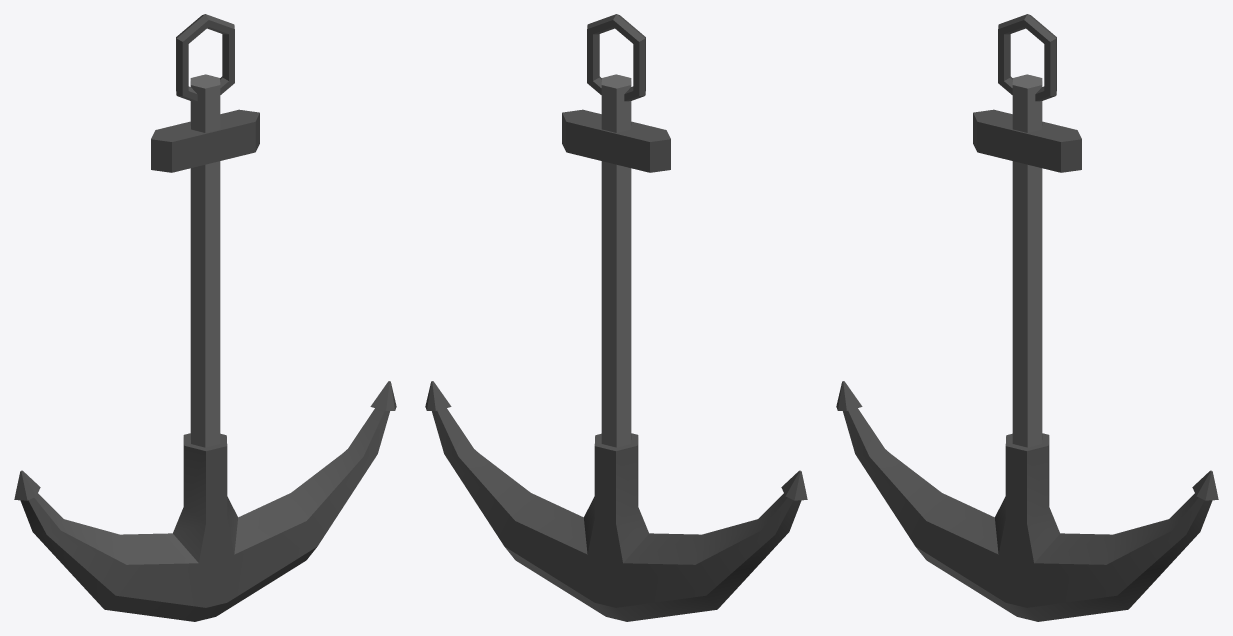
File: Anchor.fbx
The picture shows the model from 3 angles, left to right: view 1: azimuth 30°, elevation 25°; view 2: azimuth 150°, elevation 25°; view 3: azimuth 330°, elevation 25°; orthographic projection.
Parts seen in each view (by area): view 1: Anchor_LOD0; view 2: Anchor_LOD0; view 3: Anchor_LOD0.
Boxes of the visible parts, bbox=[...] form: Anchor_LOD0: bbox=[14, 14, 396, 621]; Anchor_LOD0: bbox=[425, 14, 807, 621]; Anchor_LOD0: bbox=[836, 14, 1218, 621].
Size of what is drawn, in the model's own units: 0.9256 by 1.4 by 0.0937.
